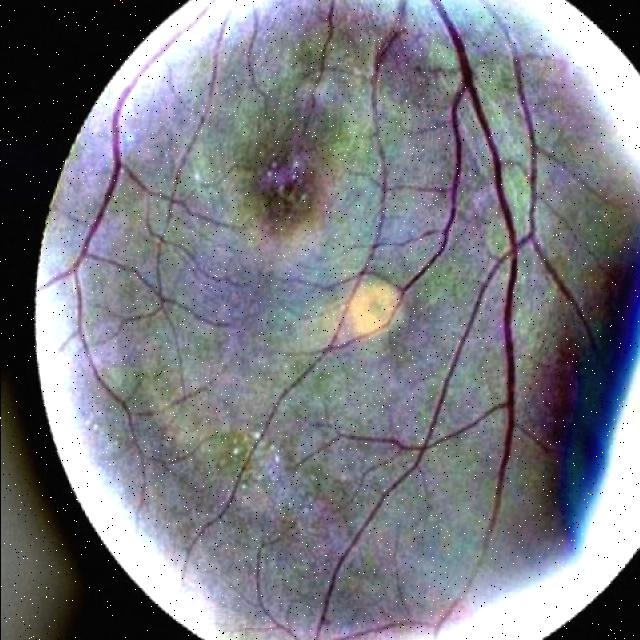Macula: (231, 140, 326, 235)
Nerves: (186, 0, 405, 555), (365, 0, 521, 577)
Optic Disk: (357, 0, 528, 39)
